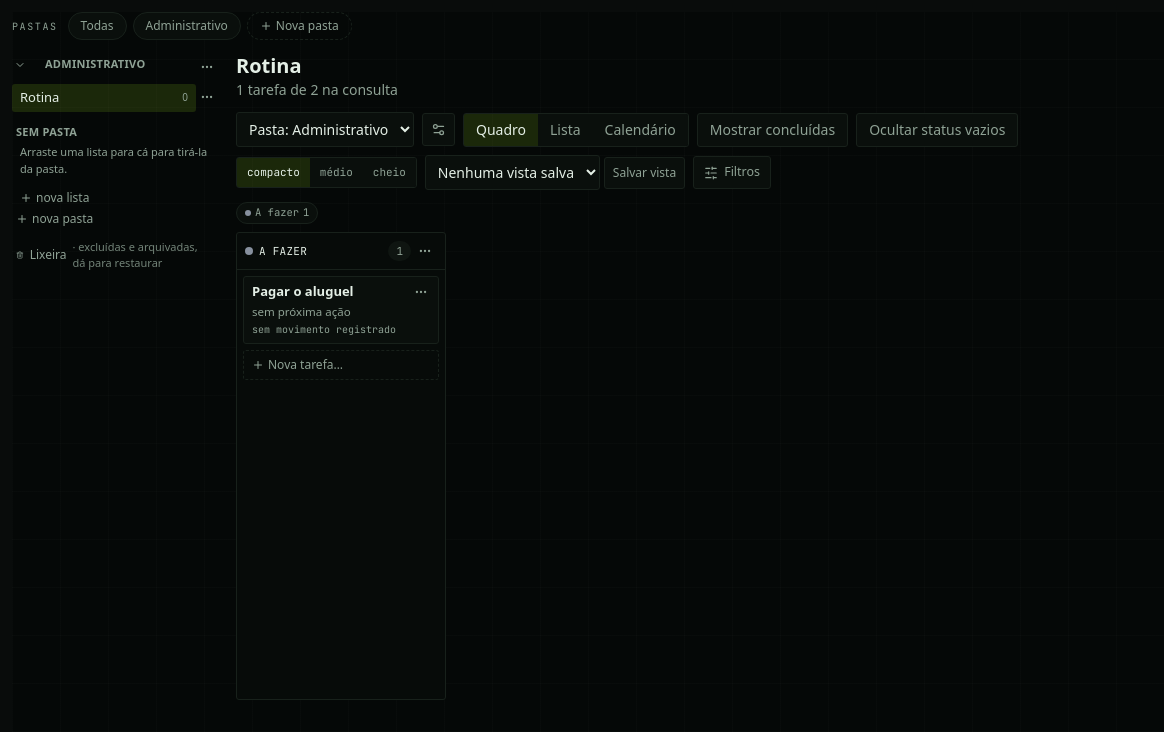
Test: Layout 26/10: concluídas ocultas por padrão › a concluída e a coluna concluída ficam de fora; "Mostrar concluídas" traz as duas e grava ?concluidas=mostrar
Check: the button "Pagar o aluguel" is shown, box left=252, top=283, right=354, bottom=301
Check: the text "Fechar o mês" is not shown
Click the button with test id "trabalho-concluidas". click: (772, 130)
box: left=697, top=112, right=848, bottom=146
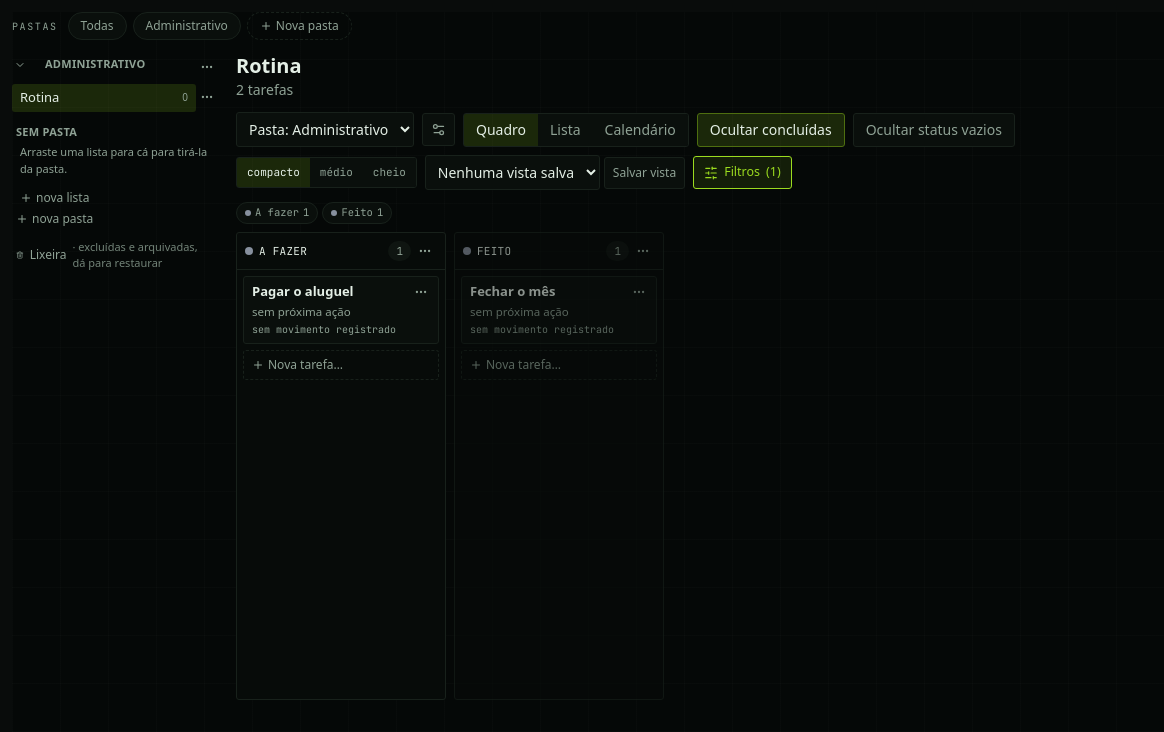
Check: the button "Fechar o mês" is shown, box left=470, top=283, right=556, bottom=301
Check: the button with test id "trabalho-concluidas" reads "Ocultar concluídas", box left=697, top=112, right=845, bottom=146
